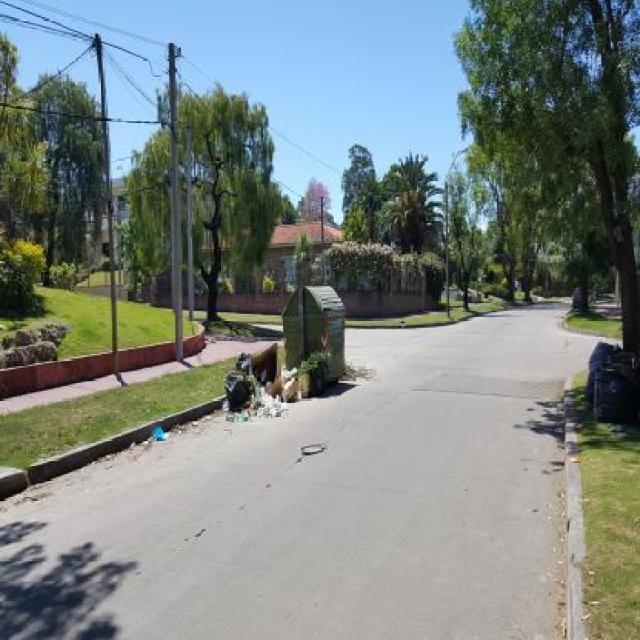garbage: (225, 345, 301, 423), (589, 345, 639, 430)
